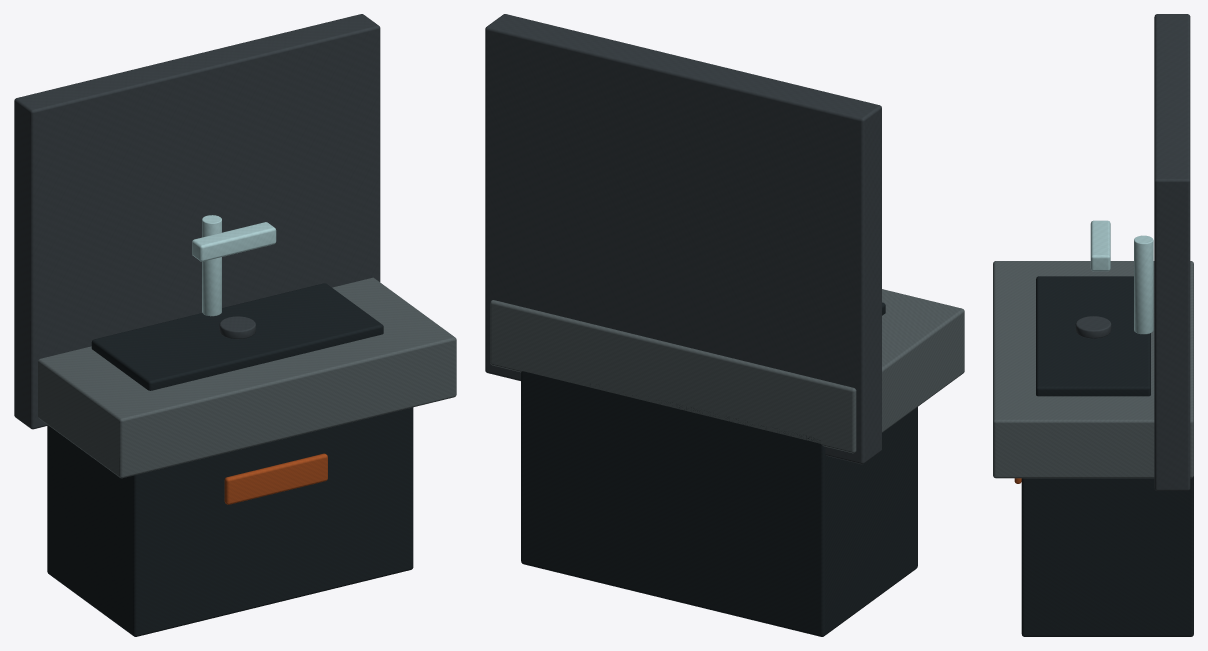
The model's file is DeconSink.fbx.
3 views of the same model, side by side, from view 1: azimuth 30°, elevation 25°; view 2: azimuth 150°, elevation 25°; view 3: azimuth 270°, elevation 25° (orthographic). The views are drawn at different scales.
Parts seen in each view (by area): view 1: DeconSink_Mesh; view 2: DeconSink_Mesh; view 3: DeconSink_Mesh.
Boxes of the visible parts, bbox=[...] form: DeconSink_Mesh: bbox=[14, 14, 456, 636]; DeconSink_Mesh: bbox=[485, 14, 964, 636]; DeconSink_Mesh: bbox=[993, 14, 1193, 636].
Size of the model in its own units: 110 by 146 by 56.
Materials: 5 (5 with a texture image).
